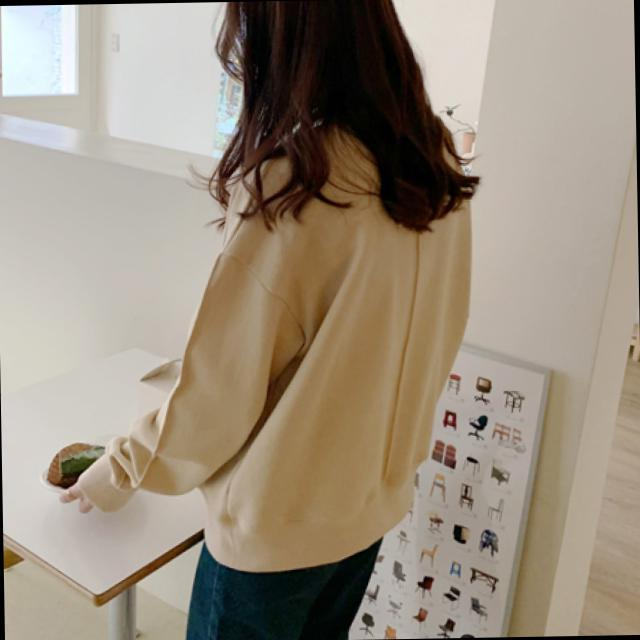sweater: (69, 112, 478, 575)
trousers: (184, 530, 390, 640)
